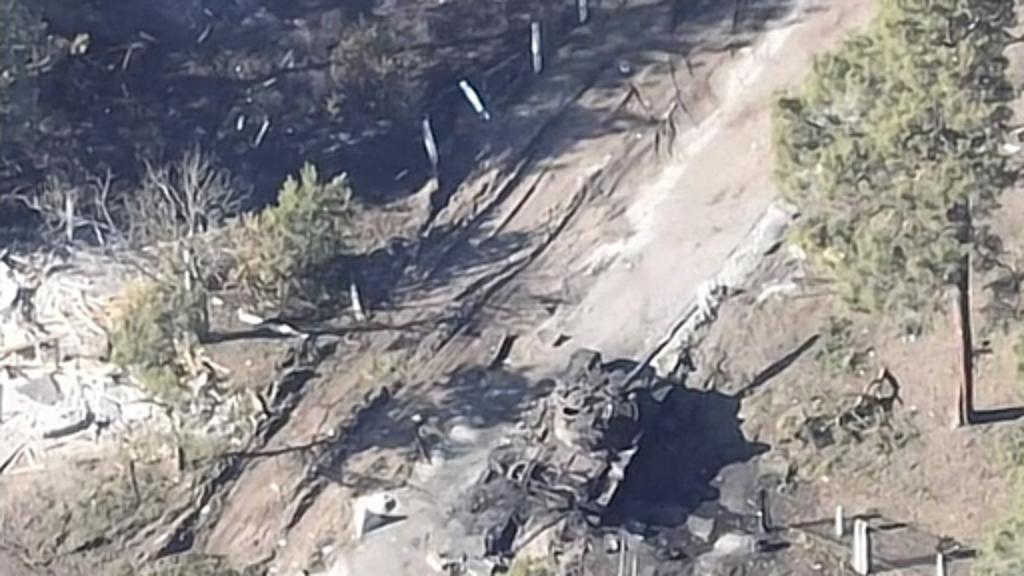TANK: (482, 298, 704, 516)
